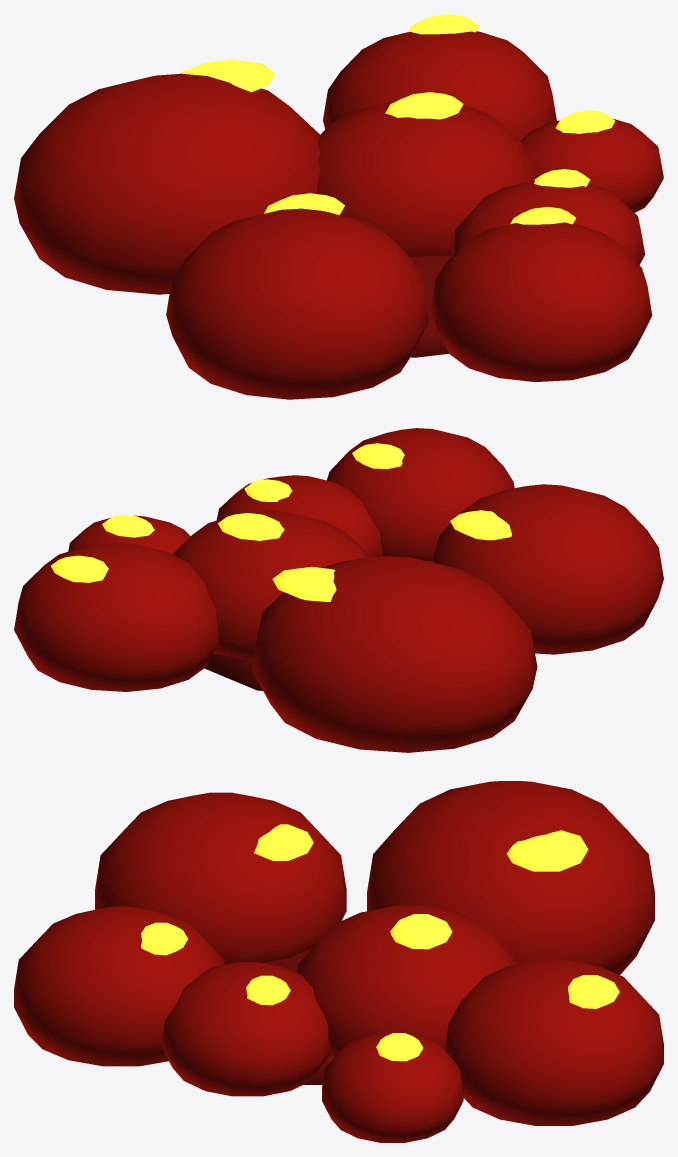
Rendered from newshe-155.glb.
3 renders of one model, top to bottom at view 1: azimuth 30°, elevation 25°; view 2: azimuth 150°, elevation 25°; view 3: azimuth 270°, elevation 25°, orthographic. The views are drawn at different scales.
Parts seen in each view (by area): view 1: newshe-155; view 2: newshe-155; view 3: newshe-155.
Boxes of the visible parts, x1,y1,x2,y2 form: newshe-155: (14,14,663,399); newshe-155: (14,428,663,752); newshe-155: (14,781,663,1142).
Bounding box in the file's own units: 1.98 × 0.495 × 2.02.
